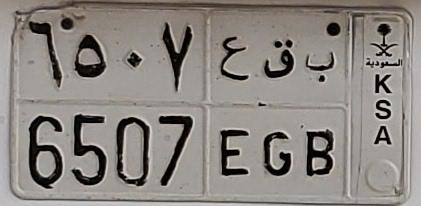0: (113, 49, 152, 188)
5: (72, 32, 109, 188)
6: (26, 18, 68, 188)
7: (156, 21, 196, 188)
B: (303, 50, 338, 176)
E: (217, 36, 252, 178)
G: (262, 37, 295, 177)
